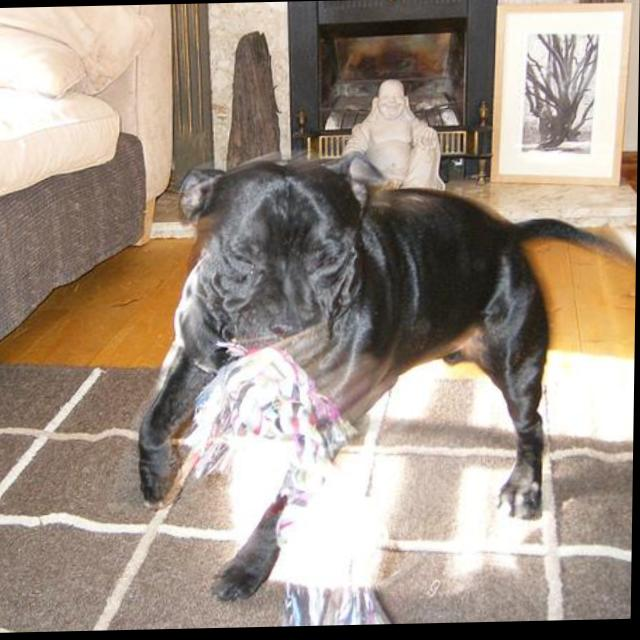staffford: (138, 149, 639, 605)
